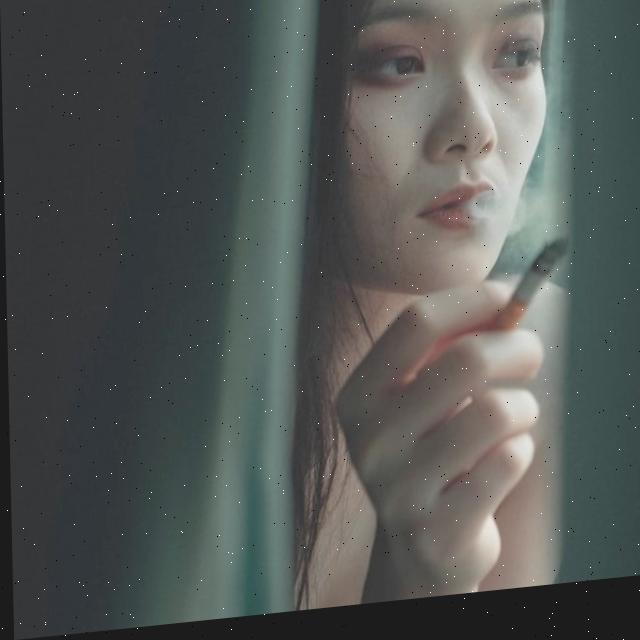cigarette: (486, 249, 568, 344)
